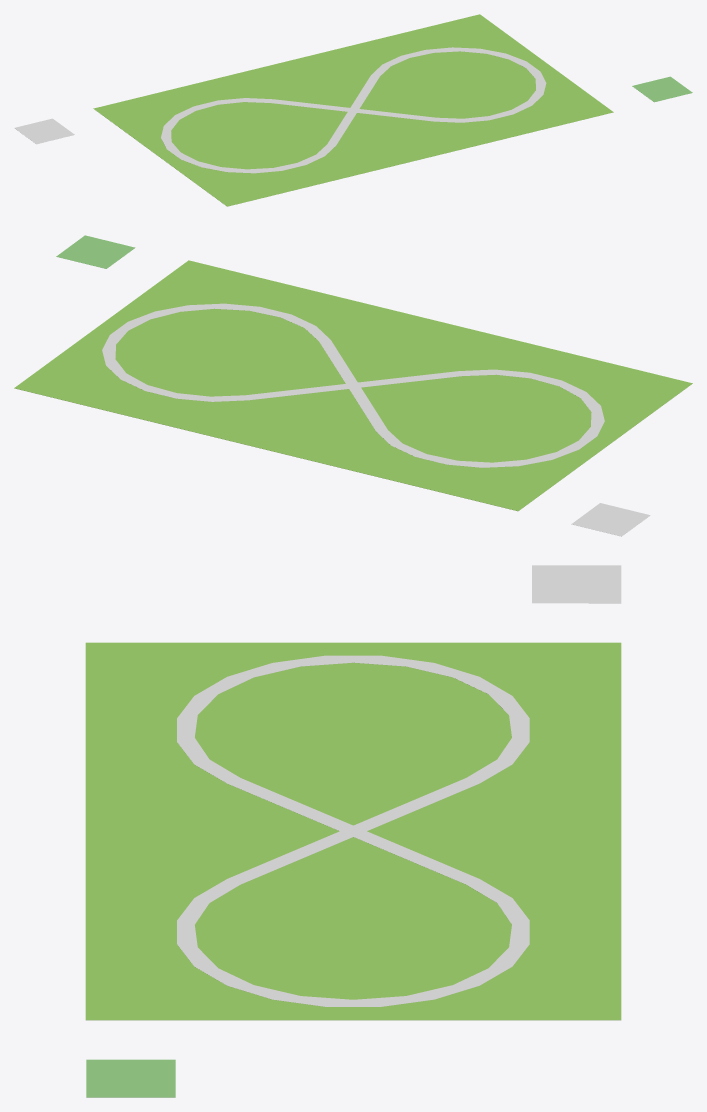
The model's file is stage_01.dae.
The picture shows the model from 3 angles, top to bottom: view 1: azimuth 30°, elevation 25°; view 2: azimuth 150°, elevation 25°; view 3: azimuth 270°, elevation 25°; orthographic projection. The views are drawn at different scales.
Visible parts, largest first — view 1: RectanguloPocaProt, Circuito_en8_3, DropZone_002, DropZone_001; view 2: RectanguloPocaProt, Circuito_en8_3, DropZone_001, DropZone_002; view 3: RectanguloPocaProt, Circuito_en8_3, DropZone_001, DropZone_002.
Boxes of the visible parts, x1,y1,x2,y2 form: RectanguloPocaProt: (93,14,613,206); Circuito_en8_3: (161,47,546,173); DropZone_002: (14,118,74,144); DropZone_001: (632,76,692,102); RectanguloPocaProt: (14,260,692,511); Circuito_en8_3: (102,303,604,467); DropZone_001: (56,235,135,268); DropZone_002: (571,503,650,536); RectanguloPocaProt: (85,642,621,1020); Circuito_en8_3: (177,655,529,1006); DropZone_001: (86,1059,175,1097); DropZone_002: (532,565,621,603).
Bounding box in the file's own units: 142 × 60.52 × 0.0416.
